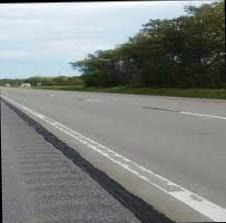faded_road_lines: (1, 94, 226, 220)
